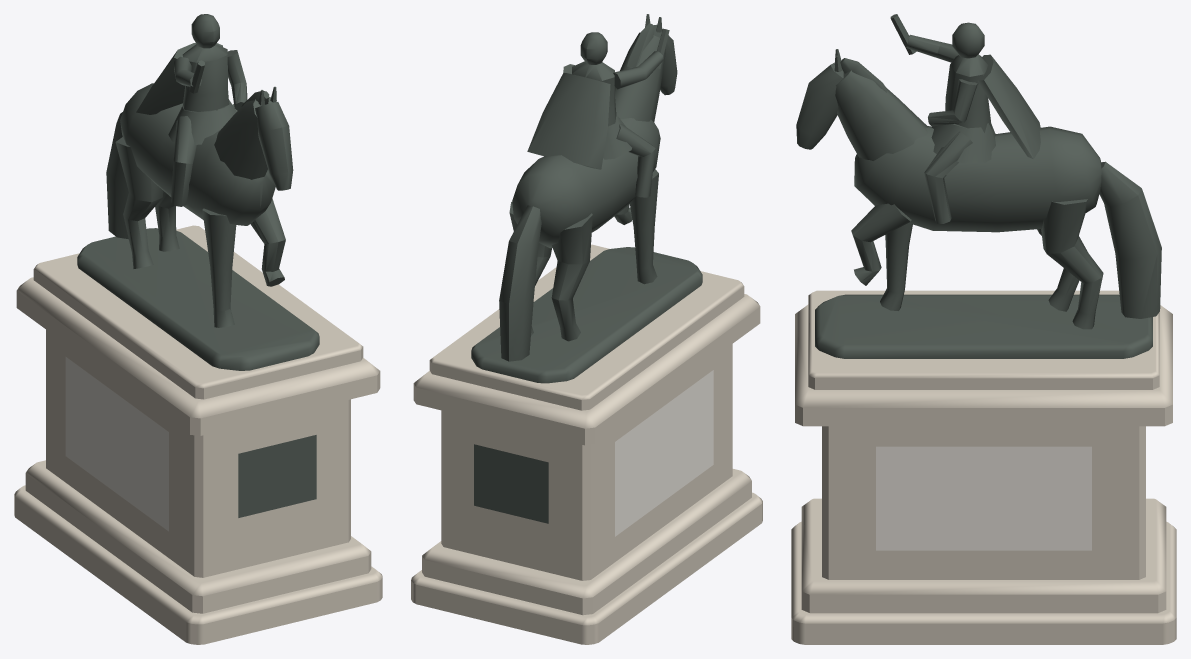
The model's file is mexico-city-carlos-iv.glb.
3 views of the same model, side by side, from view 1: azimuth 30°, elevation 25°; view 2: azimuth 150°, elevation 25°; view 3: azimuth 270°, elevation 25° (orthographic). The views are drawn at different scales.
Visible parts, largest first — view 1: El Caballito (Carlos IV); view 2: El Caballito (Carlos IV); view 3: El Caballito (Carlos IV).
Part boxes in pixels (<box>): El Caballito (Carlos IV): <box>14,14,382,644</box>; El Caballito (Carlos IV): <box>411,14,762,644</box>; El Caballito (Carlos IV): <box>791,14,1176,644</box>.
Bounding box in the file's own units: 3.5 × 9.34 × 5.7.
